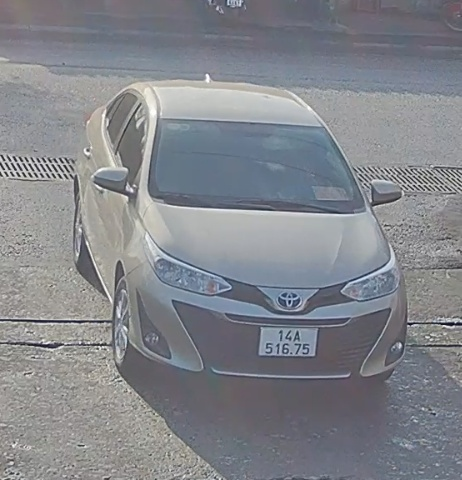vehicle plate: (252, 322, 328, 363)
